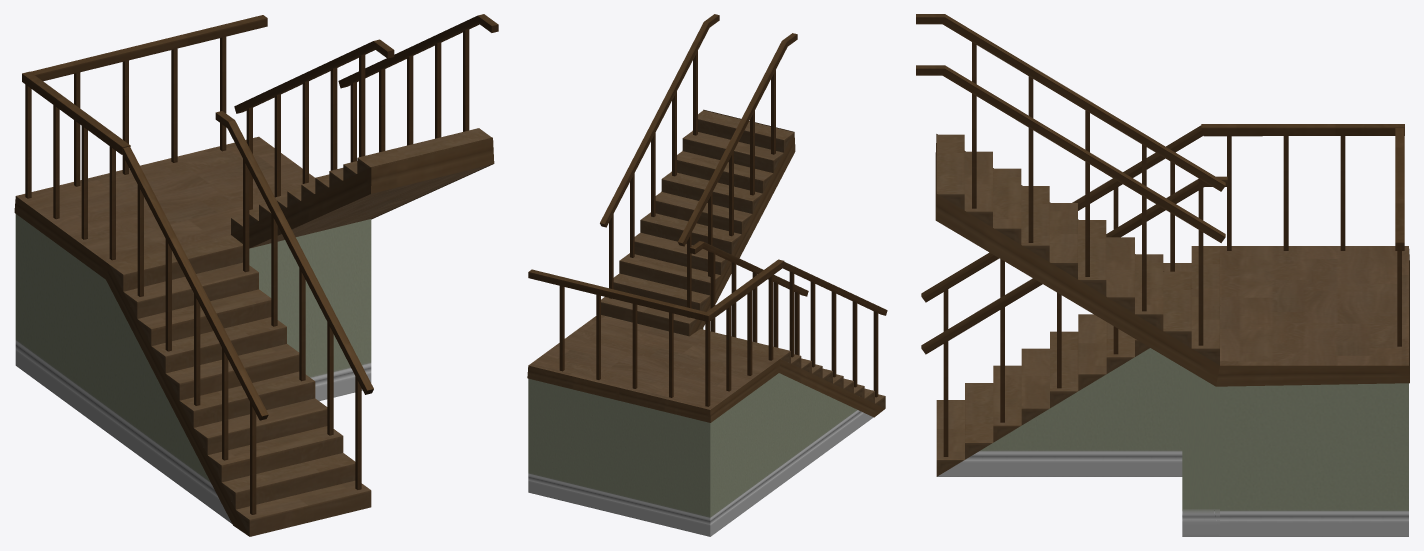
File: stairs1.fbx
3 renders of one model, left to right at view 1: azimuth 30°, elevation 25°; view 2: azimuth 150°, elevation 25°; view 3: azimuth 270°, elevation 25°, orthographic. The views are drawn at different scales.
Parts seen in each view (by area): view 1: stairs_short_left; view 2: stairs_short_left; view 3: stairs_short_left.
Boxes of the visible parts, x1,y1,x2,y2 form: stairs_short_left: (14,14,498,536); stairs_short_left: (527,14,887,536); stairs_short_left: (916,14,1409,536).
Size of the model in its own units: 303 by 544 by 523.
